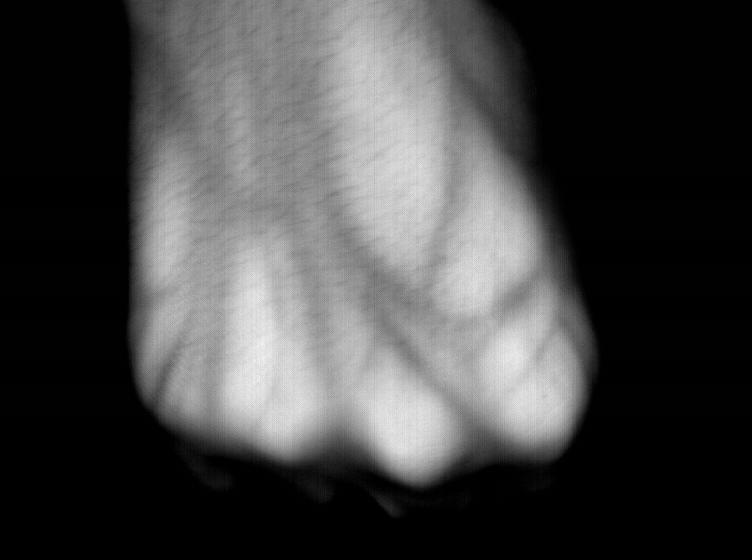Vein: (319, 167, 447, 320)
